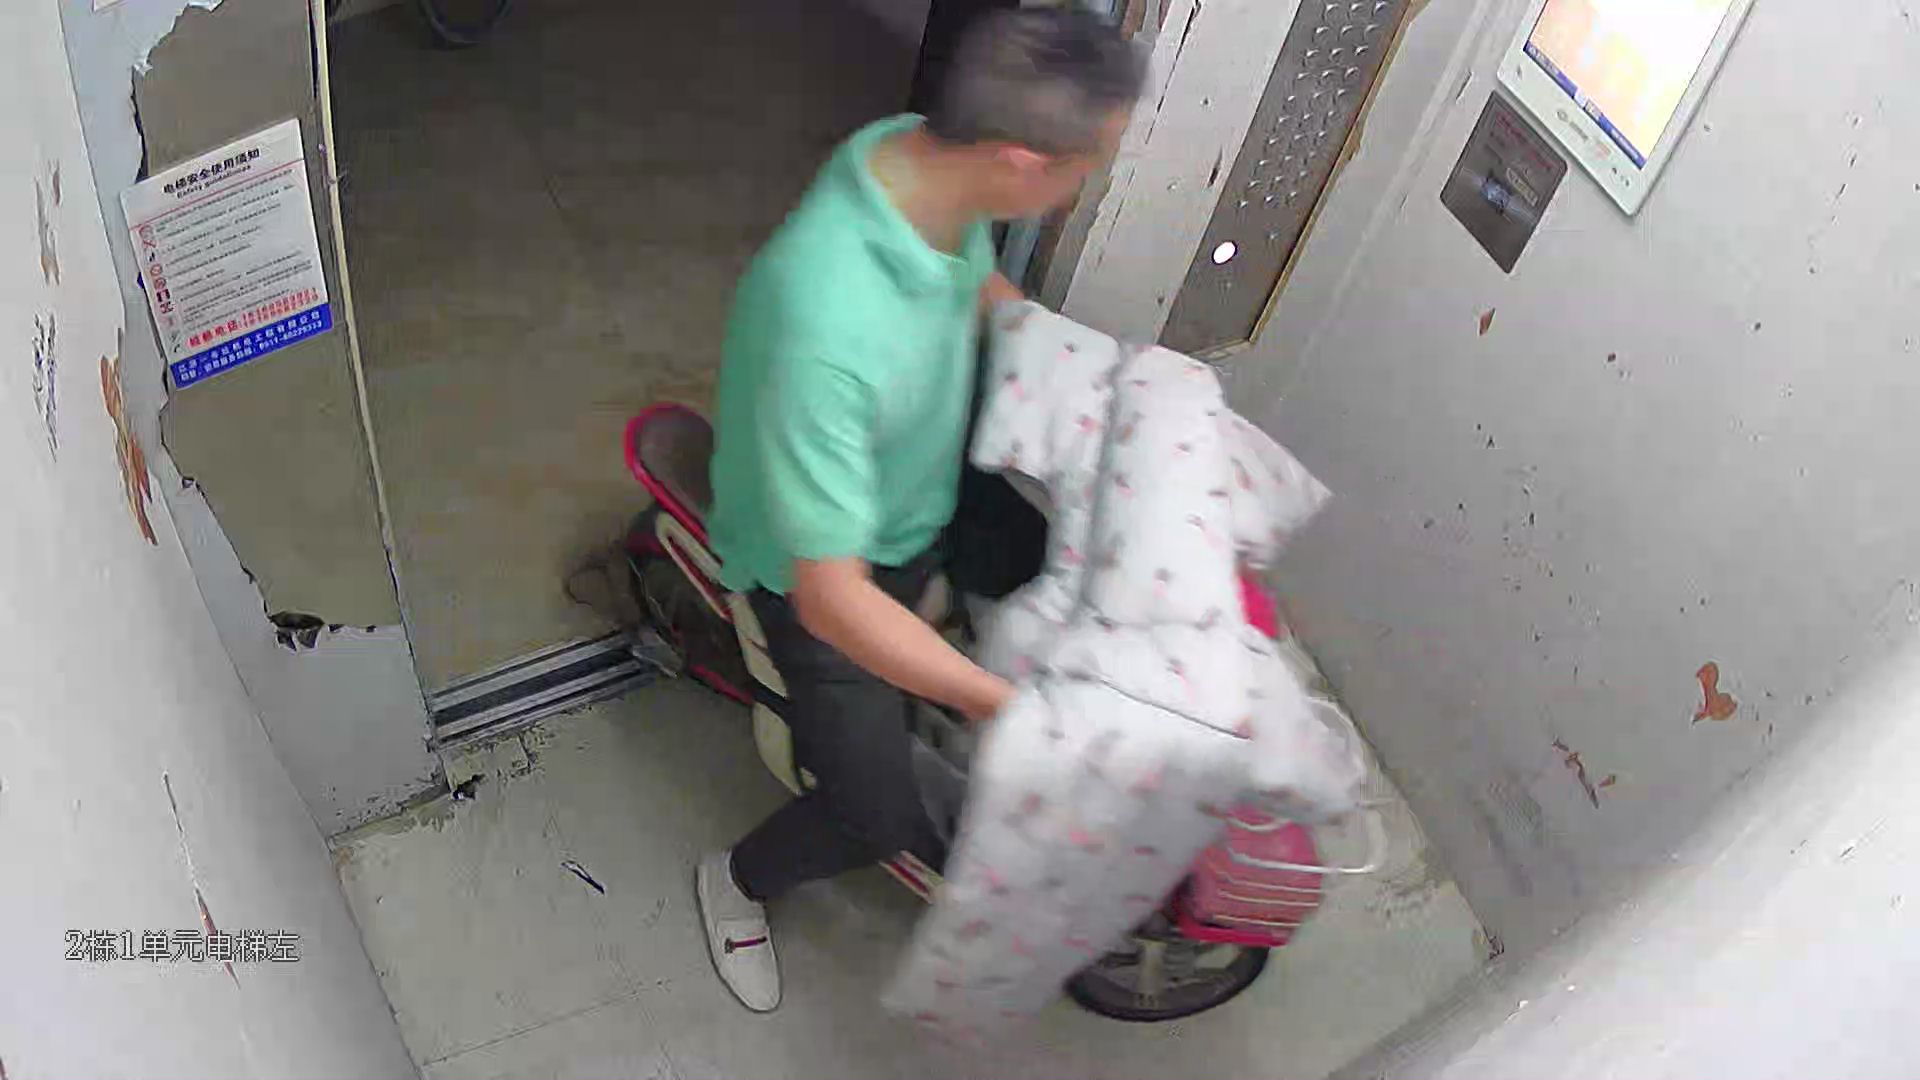Electric-bicycle: (571, 402, 1390, 1027)
